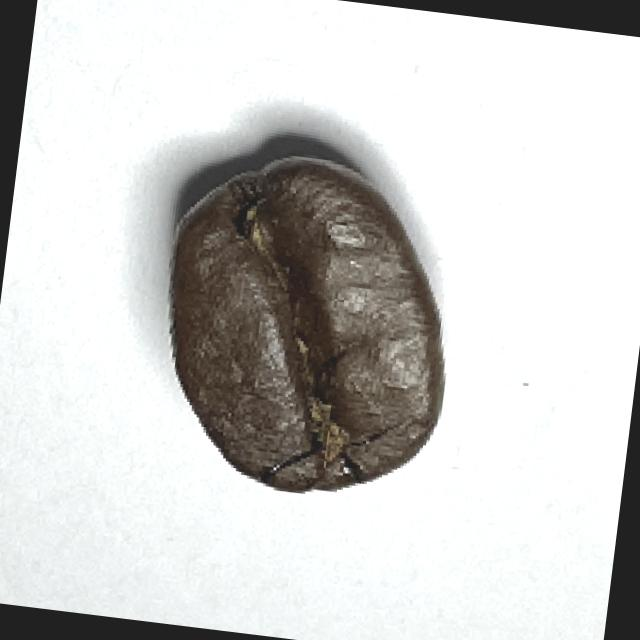bean: (140, 139, 472, 514)
